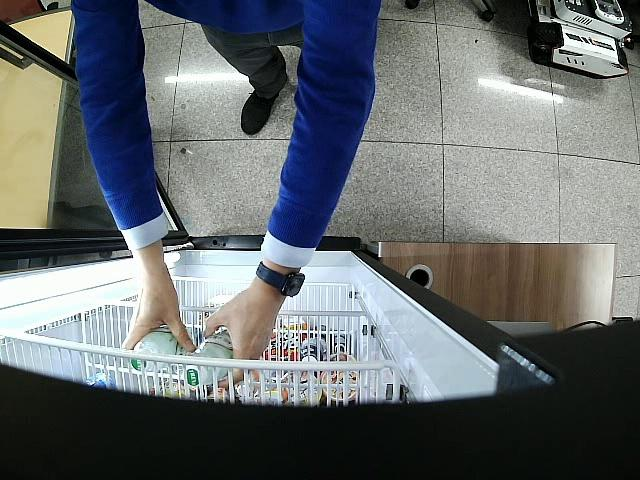00_hand: (206, 298, 285, 386), (122, 257, 195, 352)
18_trevi: (185, 330, 233, 386), (132, 330, 178, 372)
